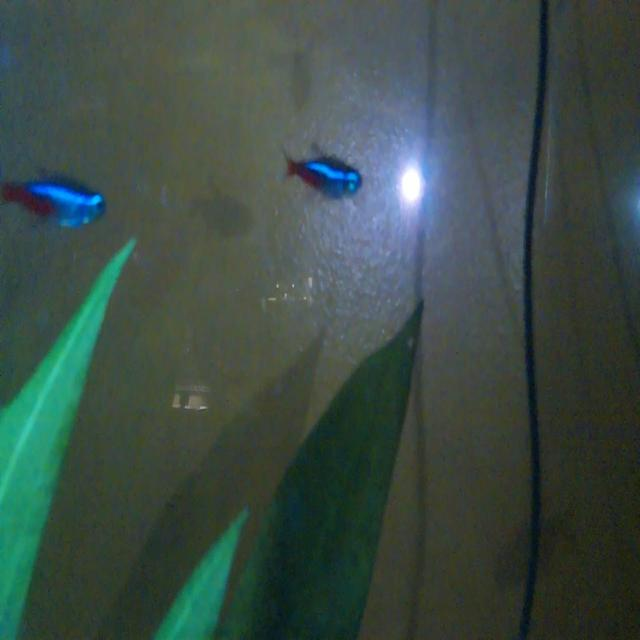fish: (0, 161, 114, 241), (272, 124, 368, 213)
